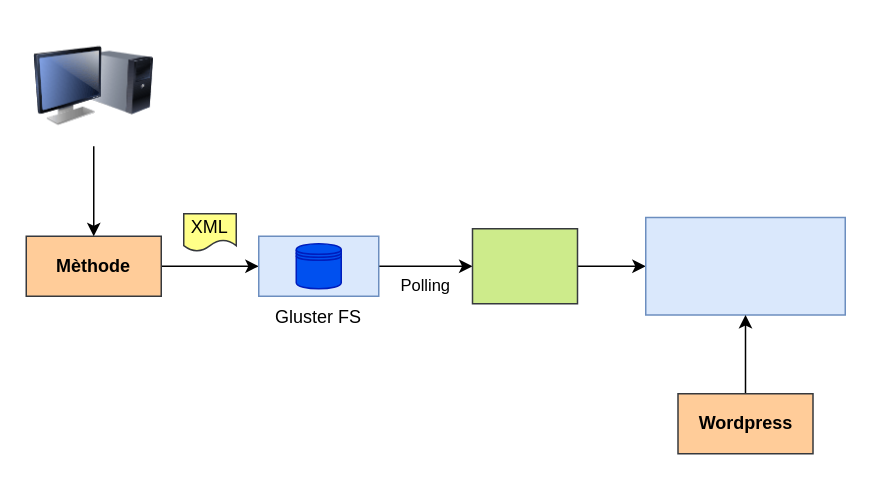
Some shapes in this 872 by 480 pixel diagram are drawn without their labels. The shapes that lost their labels are listed below. From the top down, each one's centre as x and y in pixels, then its label:
At [524,265]: "Indexer".
At [744,265]: "SOLR".
